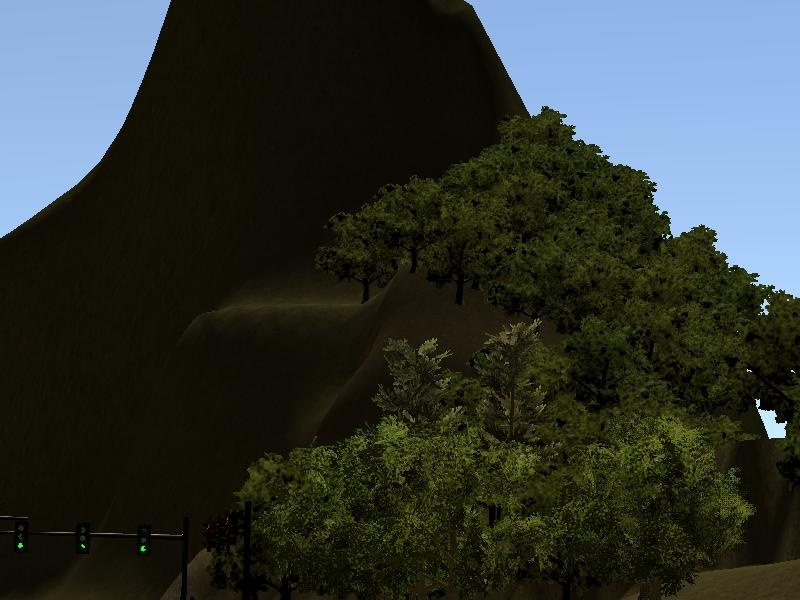GREEN: (11, 514, 32, 555), (132, 522, 155, 559)
